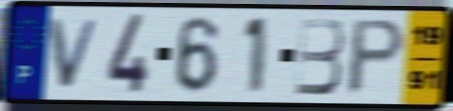1: (241, 15, 271, 96)
4: (104, 10, 152, 97)
6: (174, 13, 224, 97)
B: (293, 16, 347, 98)
P: (343, 16, 409, 98)
V: (48, 16, 105, 91)
